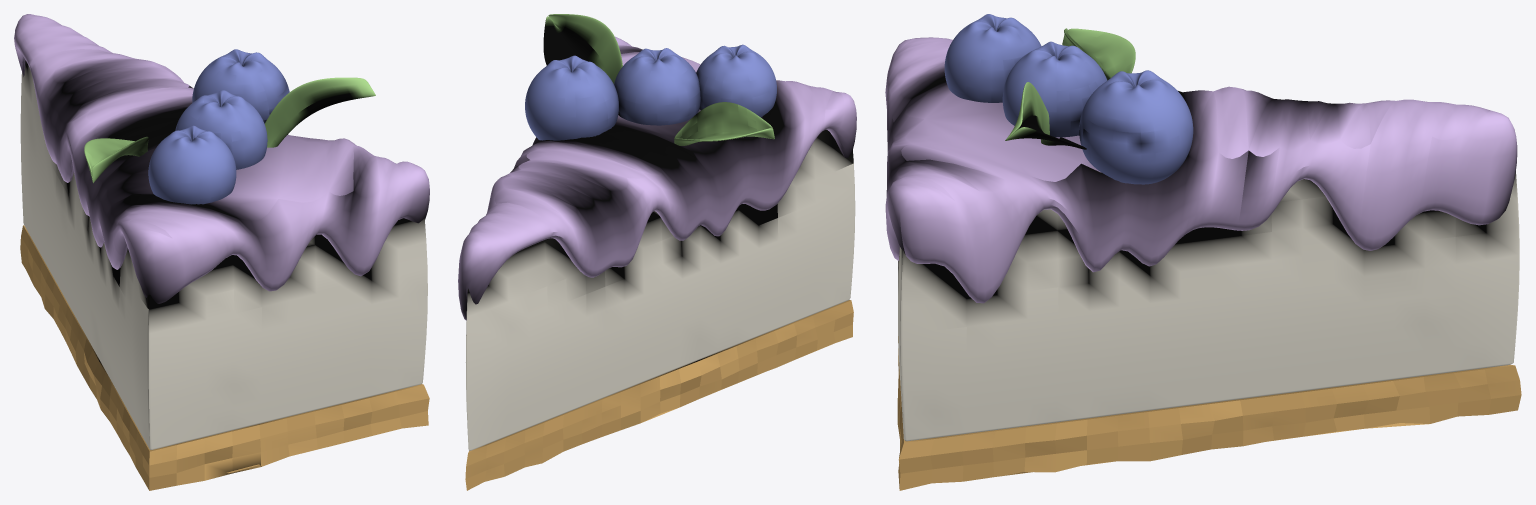
The model's file is cheesecake.glb.
3 renders of one model, left to right at view 1: azimuth 30°, elevation 25°; view 2: azimuth 150°, elevation 25°; view 3: azimuth 270°, elevation 25°, orthographic. The views are drawn at different scales.
Parts seen in each view (by area): view 1: Cheese, Icing, Crust, Blueberry001, Blueberry, Blueberry002, Leaf, Leaf001; view 2: Cheese, Icing, Crust, Blueberry002, Blueberry, Blueberry001, Leaf, Leaf001; view 3: Cheese, Icing, Crust, Blueberry002, Blueberry, Blueberry001, Leaf001, Leaf.
Boxes of the visible parts, bbox=[...] form: Cheese: bbox=[20, 60, 427, 449]; Icing: bbox=[14, 14, 429, 303]; Crust: bbox=[20, 225, 429, 490]; Blueberry001: bbox=[148, 125, 236, 204]; Blueberry: bbox=[175, 90, 267, 169]; Blueberry002: bbox=[192, 49, 289, 123]; Leaf: bbox=[264, 77, 375, 147]; Leaf001: bbox=[84, 136, 148, 183]; Cheese: bbox=[465, 129, 855, 450]; Icing: bbox=[458, 36, 856, 320]; Crust: bbox=[465, 300, 853, 490]; Blueberry002: bbox=[525, 55, 618, 140]; Blueberry: bbox=[614, 48, 700, 125]; Blueberry001: bbox=[696, 44, 776, 117]; Leaf: bbox=[543, 14, 622, 83]; Leaf001: bbox=[674, 102, 774, 145]; Cheese: bbox=[898, 171, 1519, 441]; Icing: bbox=[885, 37, 1517, 303]; Crust: bbox=[897, 336, 1521, 490]; Blueberry002: bbox=[1079, 70, 1193, 184]; Blueberry: bbox=[1002, 41, 1107, 137]; Blueberry001: bbox=[944, 14, 1041, 102]; Leaf001: bbox=[1062, 28, 1135, 80]; Leaf: bbox=[1005, 82, 1086, 149].
Bounding box in the file's own units: 1.1 × 1.16 × 1.8.
